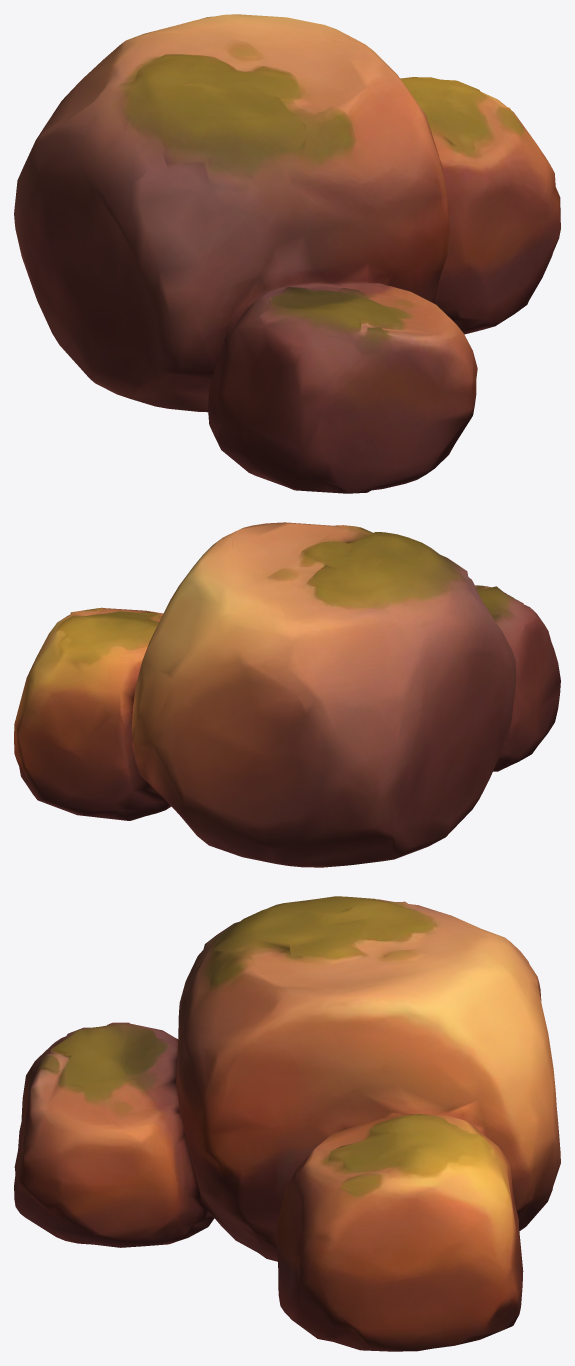
File: boulders.glb
3 renders of one model, top to bottom at view 1: azimuth 30°, elevation 25°; view 2: azimuth 150°, elevation 25°; view 3: azimuth 270°, elevation 25°, orthographic. The views are drawn at different scales.
Parts seen in each view (by area): view 1: tripo_node_a03cceb5-efce-49a3-a586-3cbd817cf98f; view 2: tripo_node_a03cceb5-efce-49a3-a586-3cbd817cf98f; view 3: tripo_node_a03cceb5-efce-49a3-a586-3cbd817cf98f.
Part boxes in pixels (x1,y1,x2,y2): tripo_node_a03cceb5-efce-49a3-a586-3cbd817cf98f: [14, 14, 560, 493]; tripo_node_a03cceb5-efce-49a3-a586-3cbd817cf98f: [14, 522, 560, 867]; tripo_node_a03cceb5-efce-49a3-a586-3cbd817cf98f: [14, 896, 560, 1351].
Size of the model in its own units: 0.9418 by 0.5743 by 1.
1 material, 1 textured.
